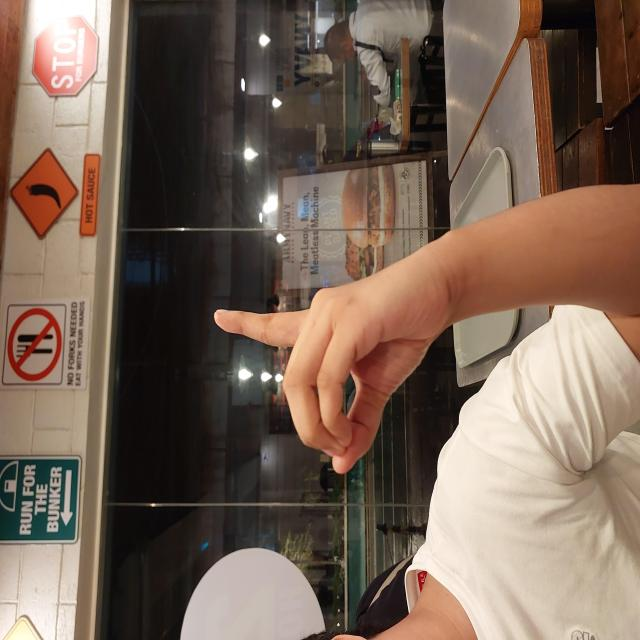D: (165, 212, 387, 449)
